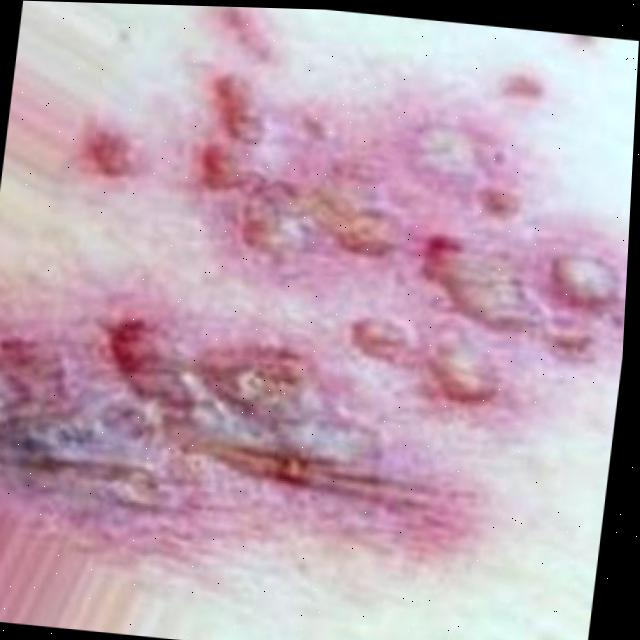Shingles: (162, 56, 637, 375), (0, 314, 485, 607), (81, 114, 157, 187), (199, 6, 285, 67)
